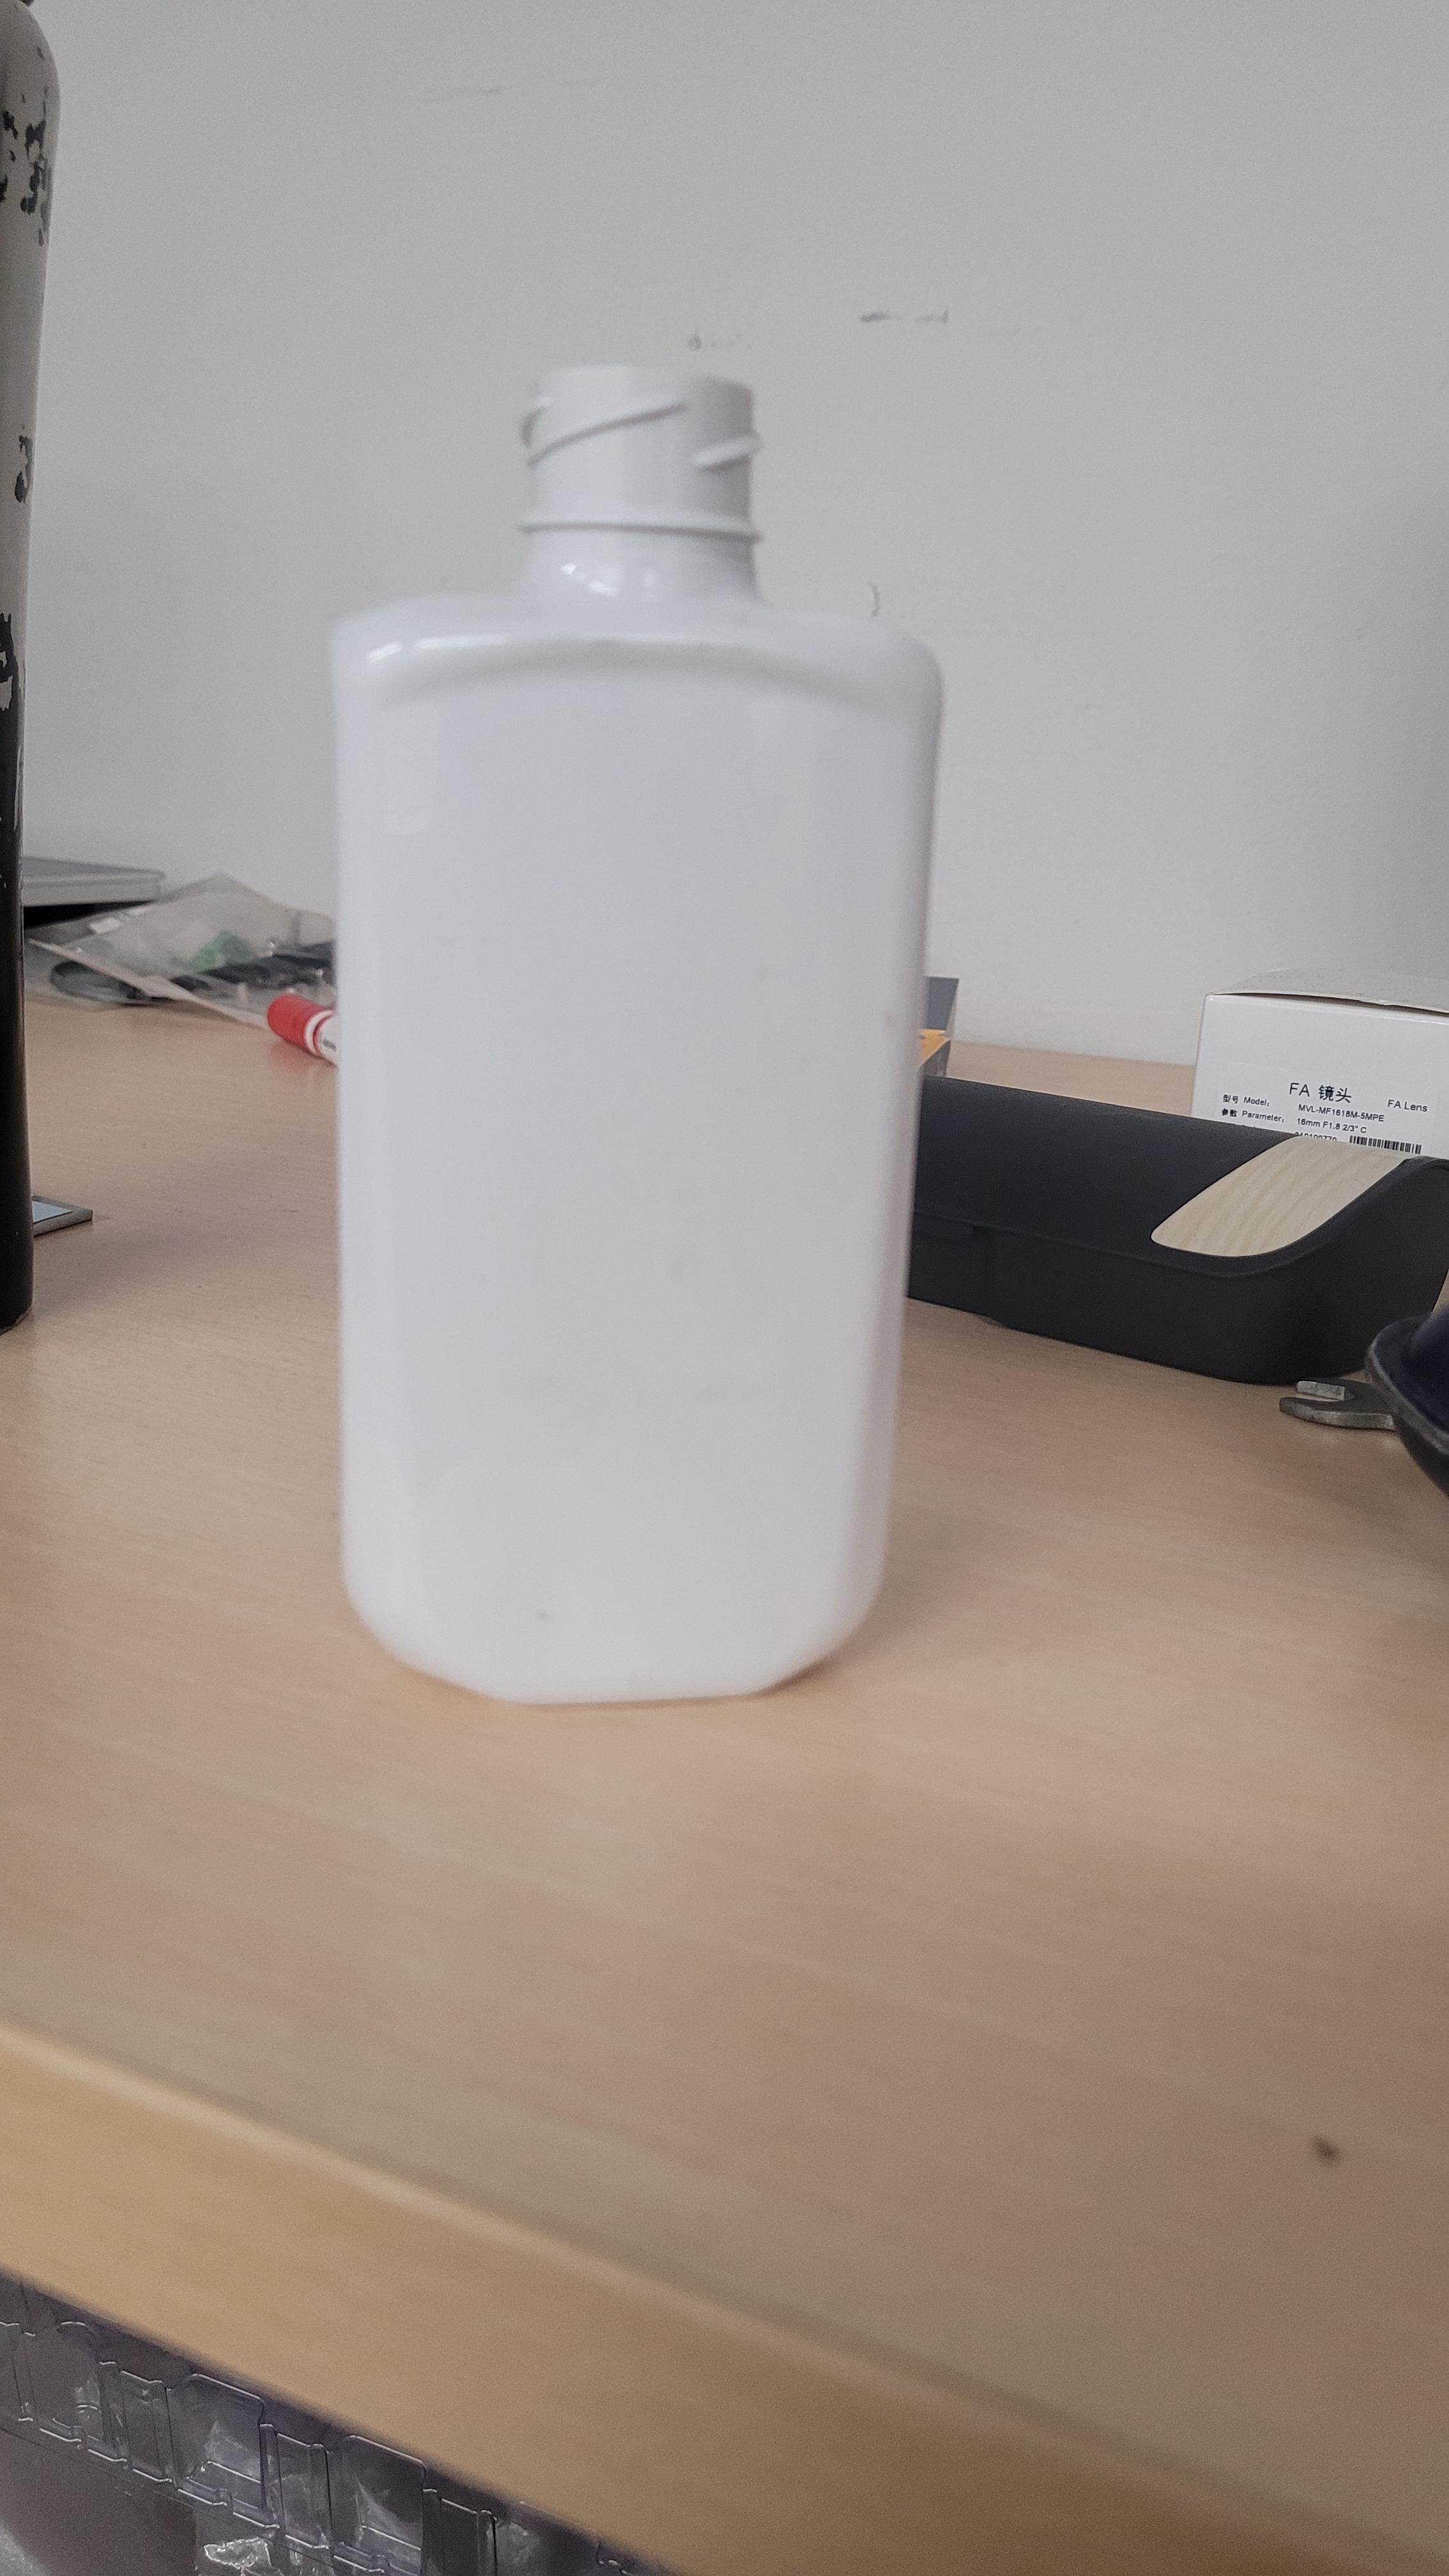Bad: (274, 315, 993, 1753)
